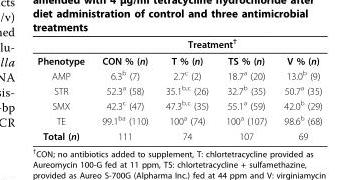table: (36, 36, 321, 141)
table column: (92, 36, 156, 141), (156, 36, 216, 141), (216, 36, 274, 141), (36, 36, 92, 141), (274, 36, 321, 141)
table column header: (36, 36, 321, 67)
table row: (36, 36, 321, 52), (36, 112, 321, 128), (36, 52, 321, 67), (36, 67, 321, 82), (36, 82, 321, 97), (36, 97, 321, 112), (36, 128, 321, 141)
table spanning cell: (92, 36, 321, 52), (36, 36, 92, 67)
